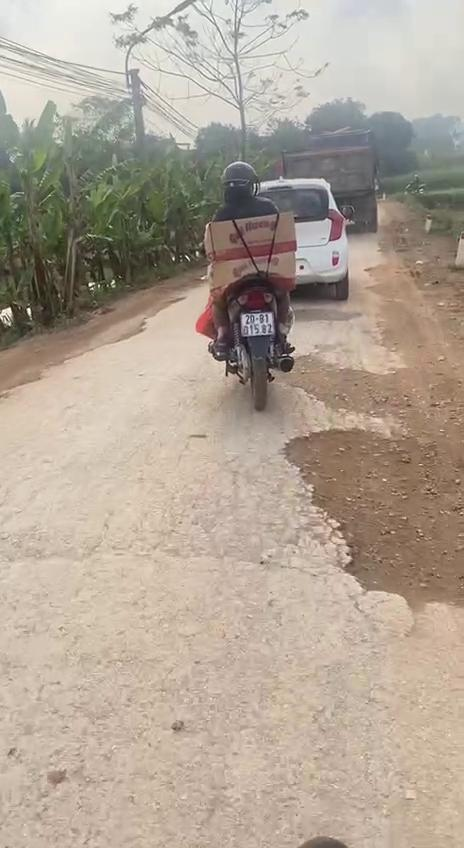pothole: (283, 423, 464, 618), (274, 346, 400, 430), (76, 318, 150, 358), (288, 304, 365, 328)
